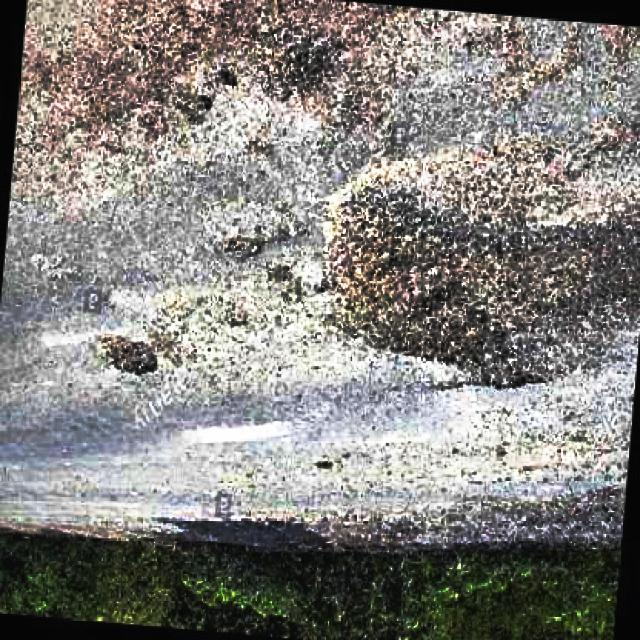pothole: (289, 171, 640, 392), (42, 0, 364, 114), (200, 200, 314, 262), (92, 331, 165, 375)
